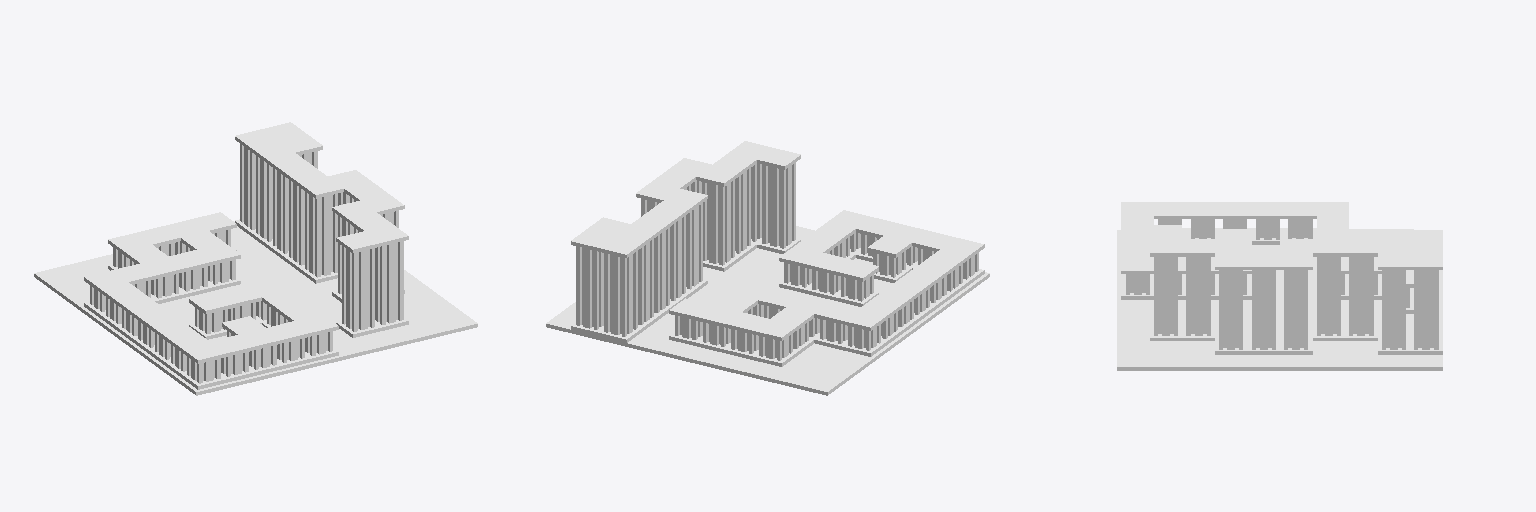
Rendered from Stage.obj.
The picture shows the model from 3 angles: view 1: azimuth 30°, elevation 25°; view 2: azimuth 150°, elevation 25°; view 3: azimuth 270°, elevation 25°; orthographic projection.
Visible parts, largest first — view 1: object 1; view 2: object 1; view 3: object 1.
Boxes of the visible parts, x1=… form: object 1: x1=34, y1=122, x2=477, y2=395; object 1: x1=546, y1=141, x2=989, y2=395; object 1: x1=1117, y1=202, x2=1442, y2=370.
Bounding box in the file's own units: 8 × 2.5 × 8.